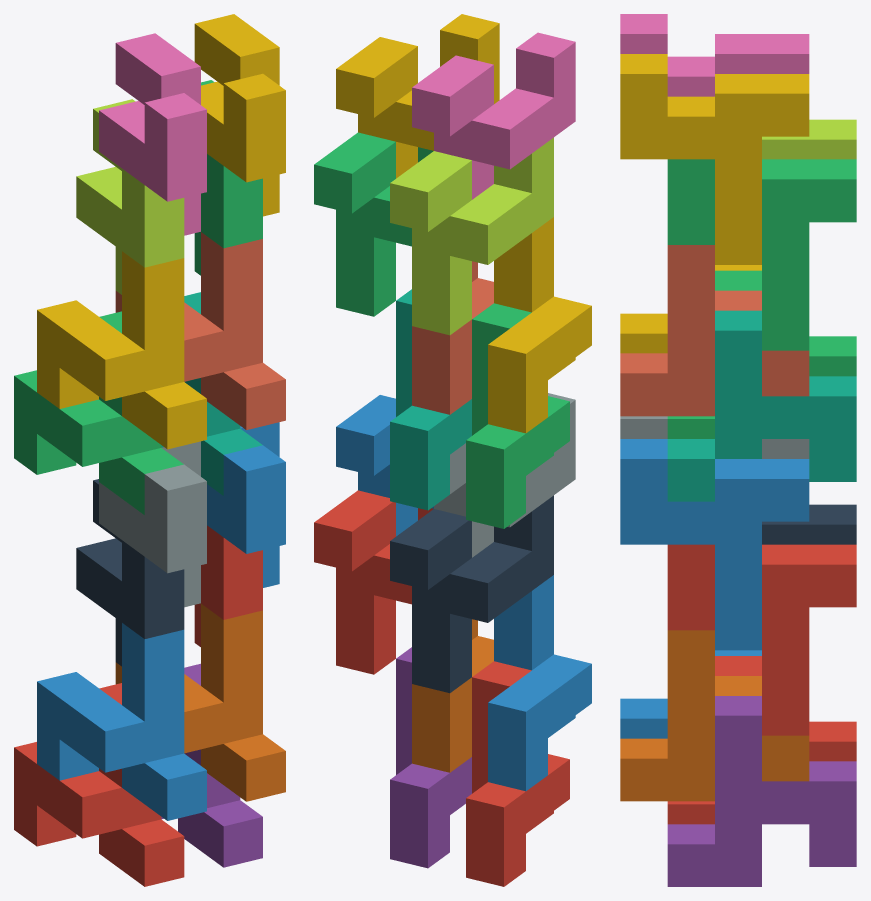
The model's file is tiling.obj.
3 renders of one model, left to right at view 1: azimuth 30°, elevation 25°; view 2: azimuth 150°, elevation 25°; view 3: azimuth 270°, elevation 25°, orthographic. The views are drawn at different scales.
Visible parts, largest first — view 1: copy_1_domain_4, copy_1_domain_2, copy_2_domain_4, copy_1_domain_6, copy_1_domain_8, copy_1_domain_1, copy_2_domain_8, copy_1_domain_3, copy_2_domain_2, copy_2_domain_3, copy_2_domain_1, copy_2_domain_6 (+4 smaller); view 2: copy_2_domain_3, copy_2_domain_1, copy_2_domain_4, copy_1_domain_4, copy_1_domain_2, copy_2_domain_7, copy_2_domain_5, copy_1_domain_3, copy_1_domain_1, copy_2_domain_8, copy_1_domain_5, copy_1_domain_7 (+4 smaller); view 3: copy_2_domain_8, copy_2_domain_6, copy_1_domain_5, copy_1_domain_7, copy_2_domain_5, copy_2_domain_7, copy_1_domain_8, copy_1_domain_6, copy_2_domain_4, copy_1_domain_1, copy_1_domain_3, copy_2_domain_1 (+4 smaller).
Boxes of the visible parts, x1,y1,x2,y2 form: copy_1_domain_4: (37, 251, 206, 449); copy_1_domain_2: (37, 623, 206, 820); copy_2_domain_4: (99, 33, 206, 235); copy_1_domain_6: (115, 603, 285, 801); copy_1_domain_8: (115, 232, 285, 429); copy_1_domain_1: (14, 683, 184, 886); copy_2_domain_8: (194, 14, 285, 216); copy_1_domain_3: (14, 311, 183, 514); copy_2_domain_2: (99, 441, 206, 607); copy_2_domain_3: (76, 99, 184, 294); copy_2_domain_1: (76, 479, 184, 666); copy_2_domain_6: (207, 422, 285, 587); copy_2_domain_3: (390, 137, 553, 335); copy_2_domain_1: (390, 495, 553, 693); copy_2_domain_4: (412, 32, 575, 199); copy_1_domain_4: (488, 217, 591, 433); copy_1_domain_2: (488, 575, 591, 791); copy_2_domain_7: (314, 132, 433, 316); copy_2_domain_5: (314, 490, 433, 674); copy_1_domain_3: (466, 303, 569, 528); copy_1_domain_1: (466, 661, 569, 886); copy_2_domain_8: (336, 14, 499, 178); copy_1_domain_5: (390, 647, 471, 868); copy_1_domain_7: (390, 289, 471, 510); copy_2_domain_8: (620, 54, 809, 264); copy_2_domain_6: (620, 439, 809, 650); copy_1_domain_5: (667, 696, 856, 886); copy_1_domain_7: (667, 310, 856, 501); copy_2_domain_5: (667, 544, 856, 735); copy_2_domain_7: (667, 159, 856, 350); copy_1_domain_8: (620, 245, 809, 416); copy_1_domain_6: (620, 630, 809, 801); copy_2_domain_4: (620, 14, 809, 96); copy_1_domain_1: (667, 656, 856, 824); copy_1_domain_3: (667, 270, 856, 438); copy_2_domain_1: (762, 504, 856, 544).
Size of the model in its own units: 5 by 19 by 5.
